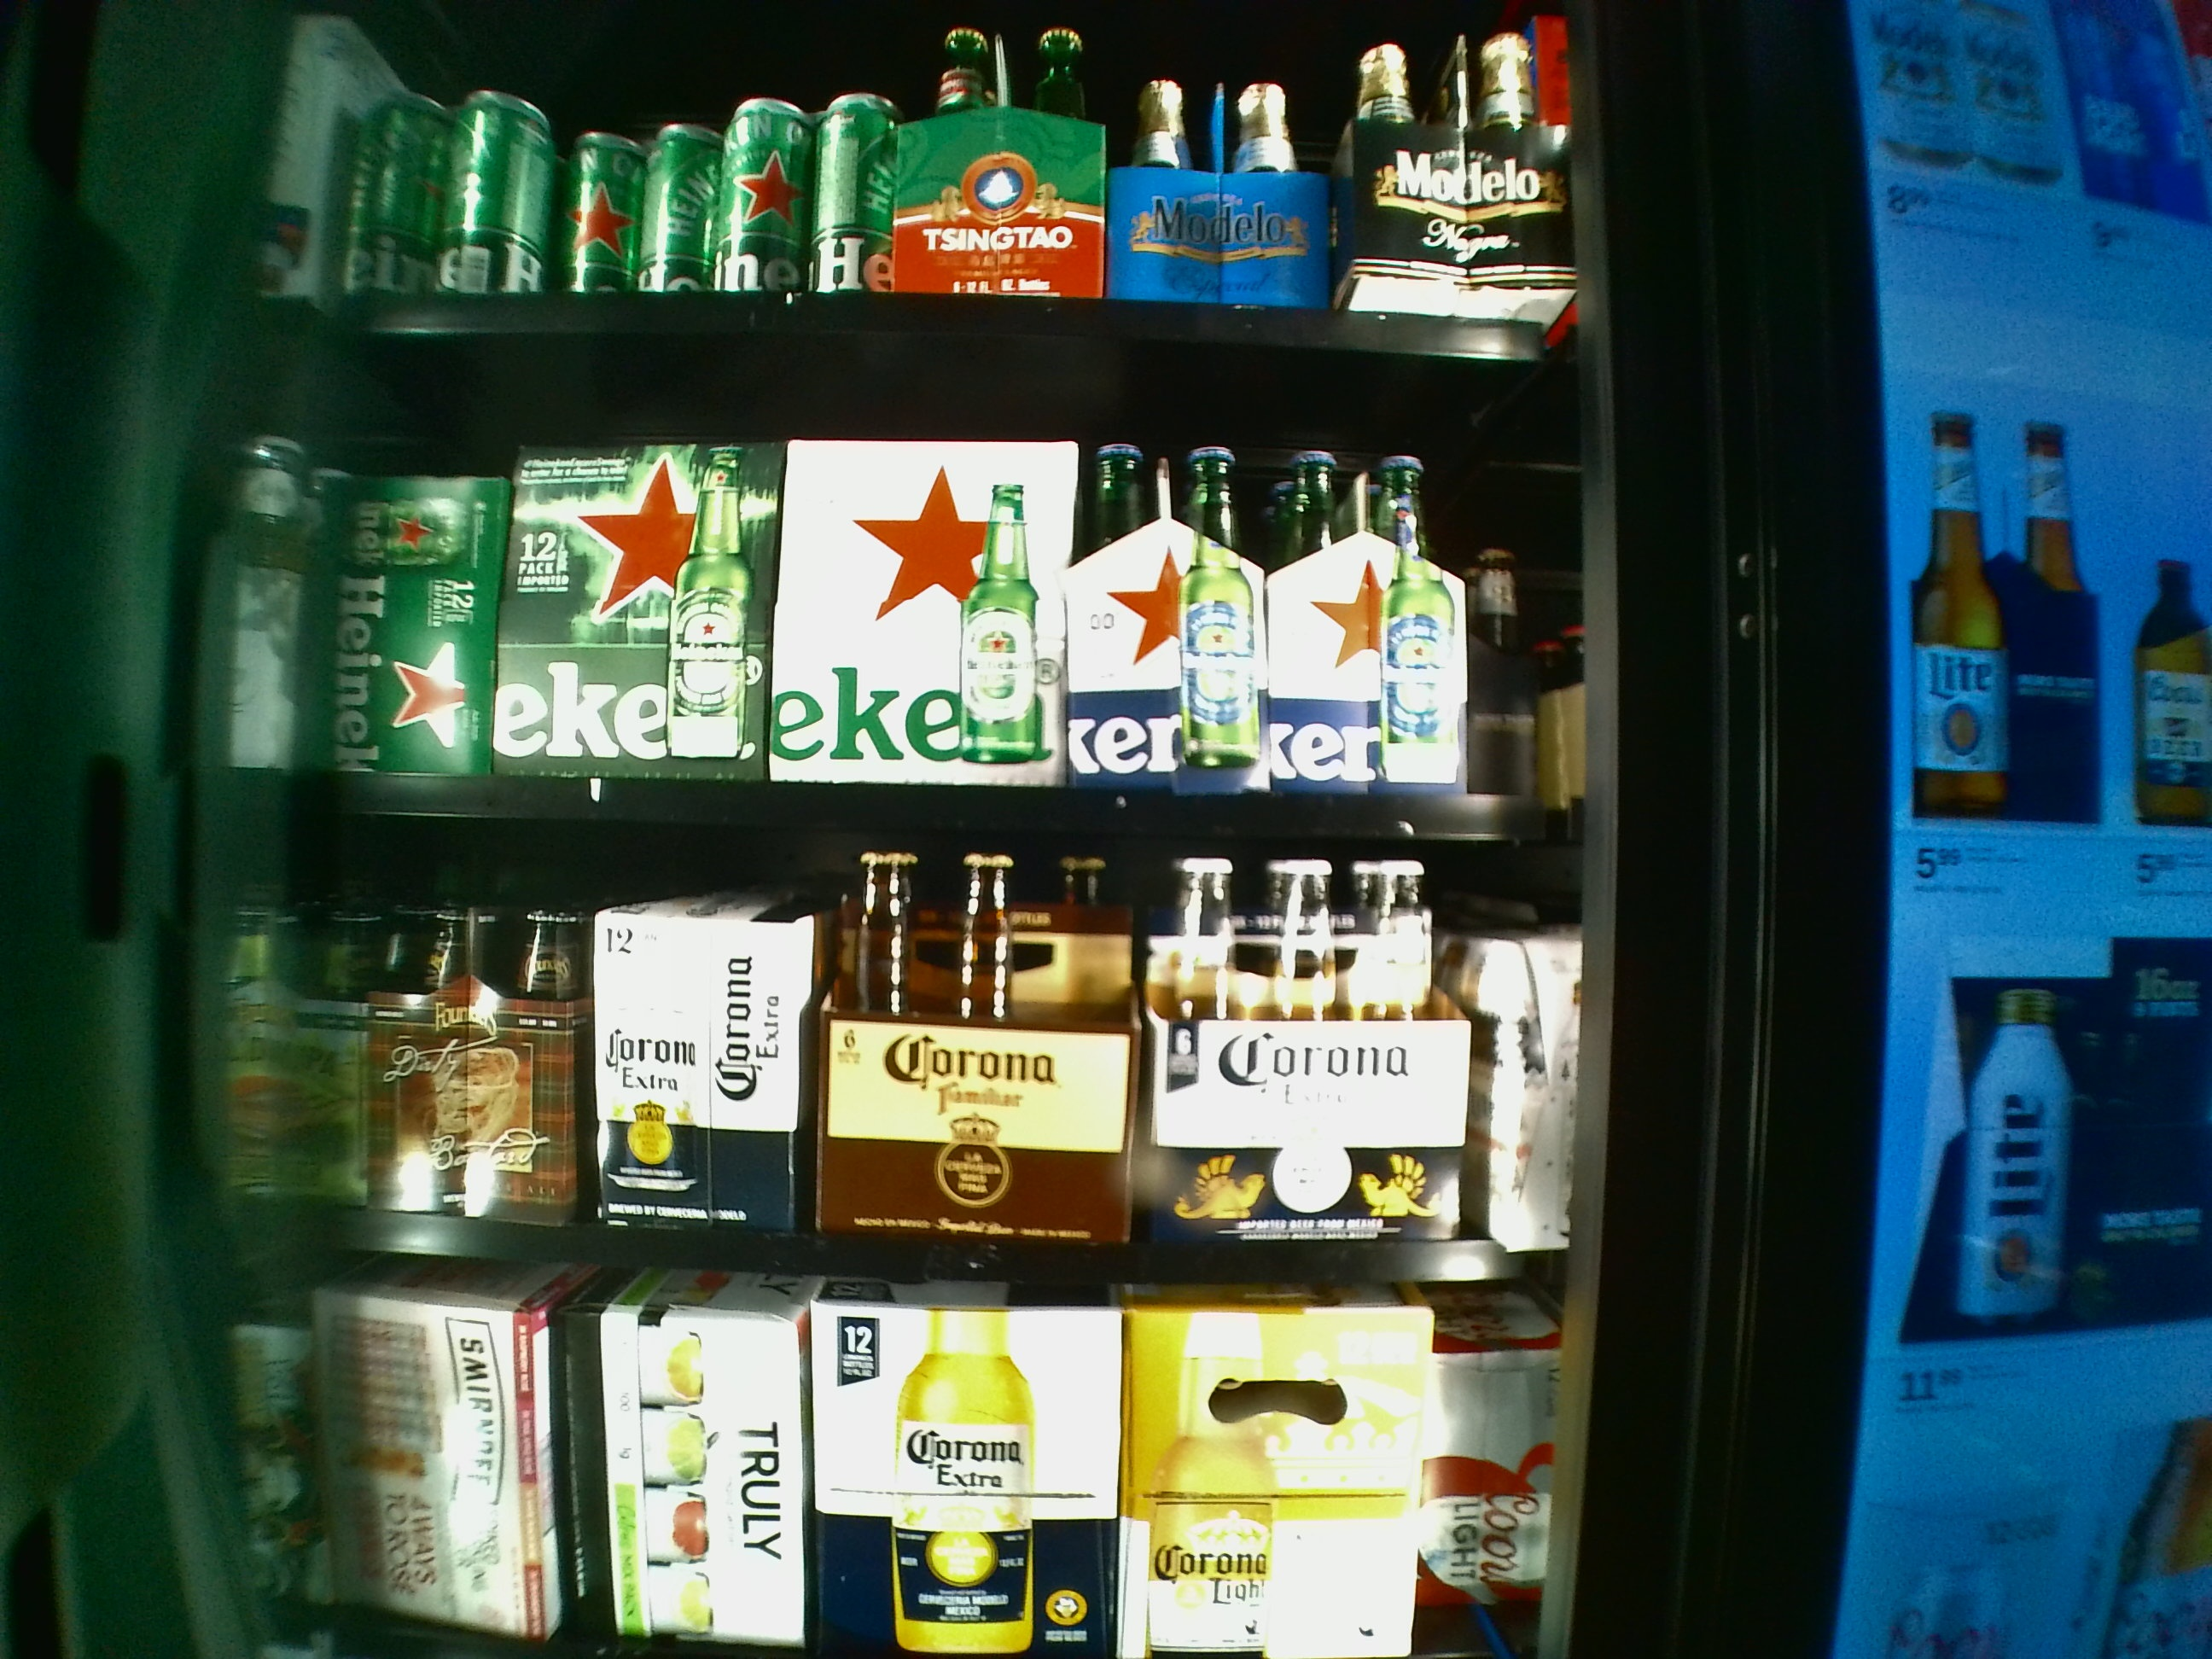shelf: (221, 362, 1578, 852), (190, 868, 1566, 1288)
